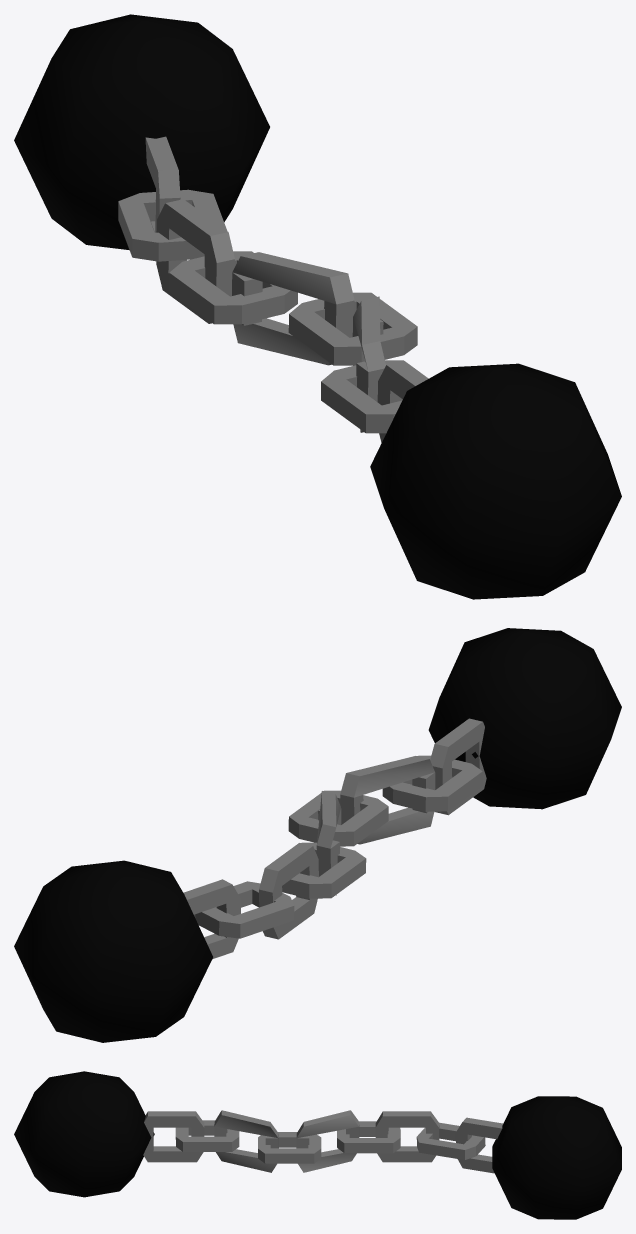
The model's file is ChainBall.obj.
3 renders of one model, top to bottom at view 1: azimuth 30°, elevation 25°; view 2: azimuth 150°, elevation 25°; view 3: azimuth 270°, elevation 25°, orthographic. The views are drawn at different scales.
Parts seen in each view (by area): view 1: Regroup07, Regroup08; view 2: Regroup07, Regroup08; view 3: Regroup07, Regroup08.
Part boxes in pixels (bbox=[...]): Regroup07: bbox=[14, 14, 621, 599]; Regroup08: bbox=[118, 136, 428, 442]; Regroup07: bbox=[14, 628, 621, 1042]; Regroup08: bbox=[183, 718, 486, 959]; Regroup07: bbox=[14, 1071, 621, 1219]; Regroup08: bbox=[143, 1110, 502, 1173].
Size of the model in its own units: 9.35 by 6.59 by 30.17.
